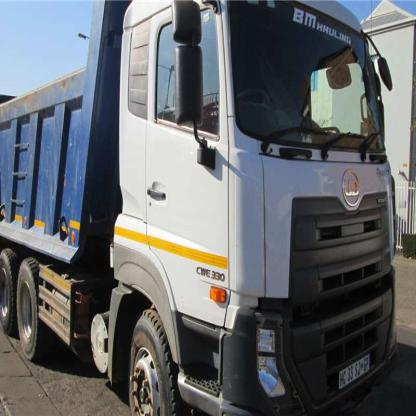dump_truck: (3, 3, 406, 415)
